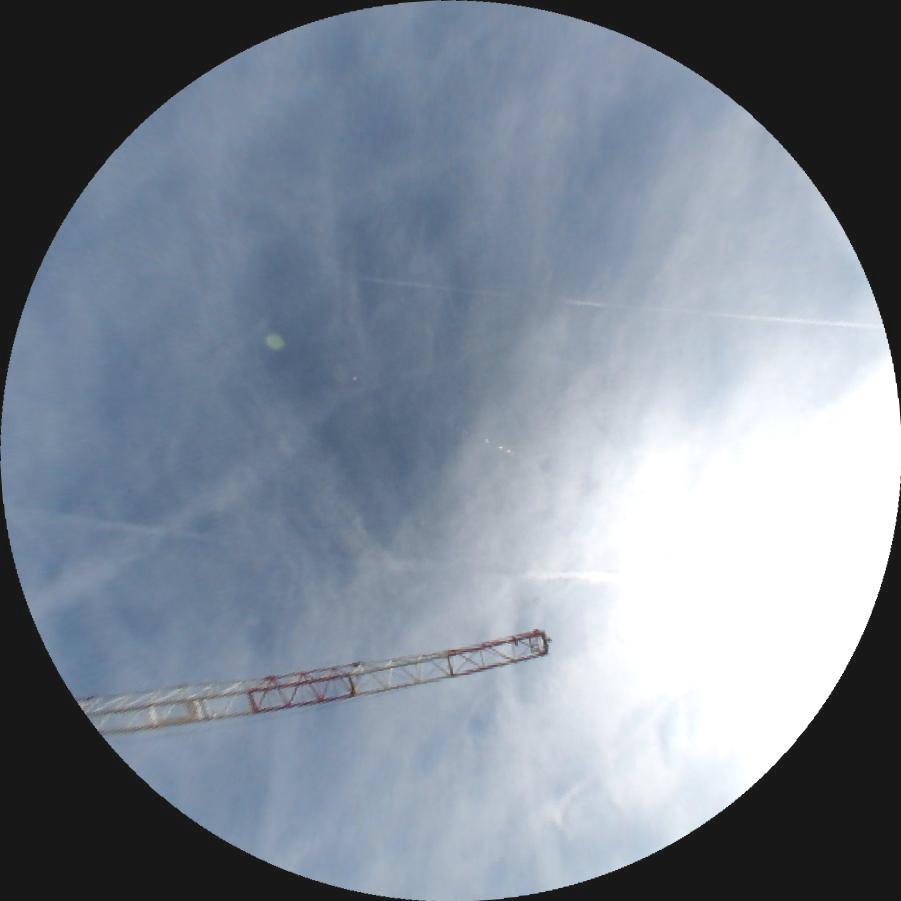contrail young: (320, 270, 883, 334)
sun: (726, 454, 899, 645)
